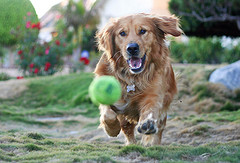tennis ball: (87, 75, 120, 104)
